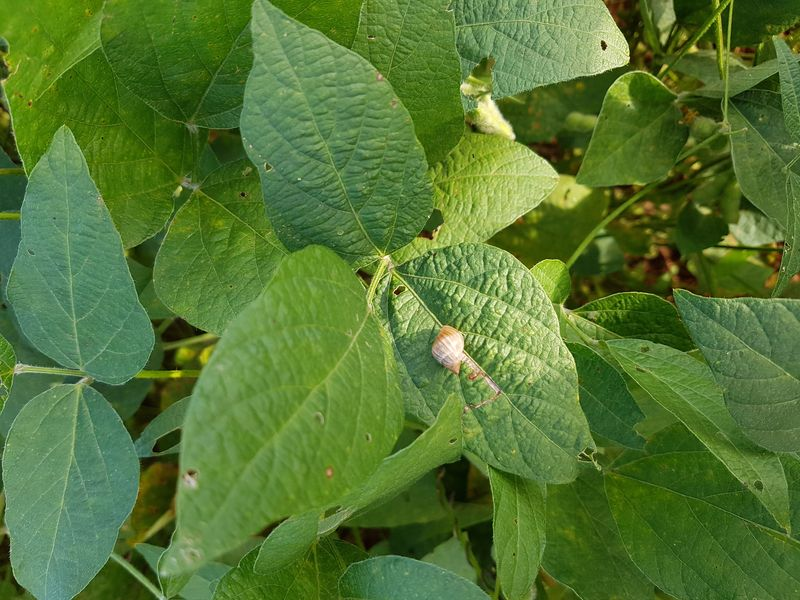Gastropoda: (416, 316, 478, 383)
